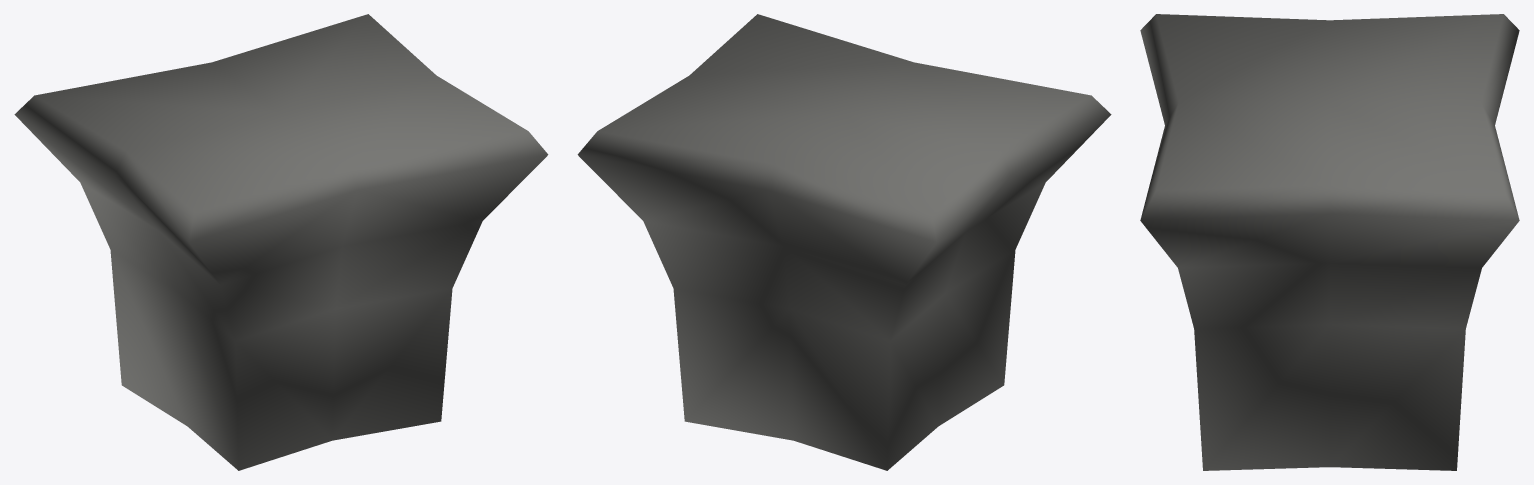
File: rpgpp_ag_anvil_02.fbx
3 views of the same model, side by side, from view 1: azimuth 30°, elevation 25°; view 2: azimuth 150°, elevation 25°; view 3: azimuth 270°, elevation 25° (orthographic). The views are drawn at different scales.
Visible parts, largest first — view 1: rpgpp_ag_anvil_02; view 2: rpgpp_ag_anvil_02; view 3: rpgpp_ag_anvil_02.
Boxes of the visible parts, x1,y1,x2,y2 form: rpgpp_ag_anvil_02: (14, 14, 548, 470); rpgpp_ag_anvil_02: (577, 14, 1111, 470); rpgpp_ag_anvil_02: (1140, 14, 1519, 470).
Bounding box in the file's own units: 0.3477 × 0.2682 × 0.2929.
